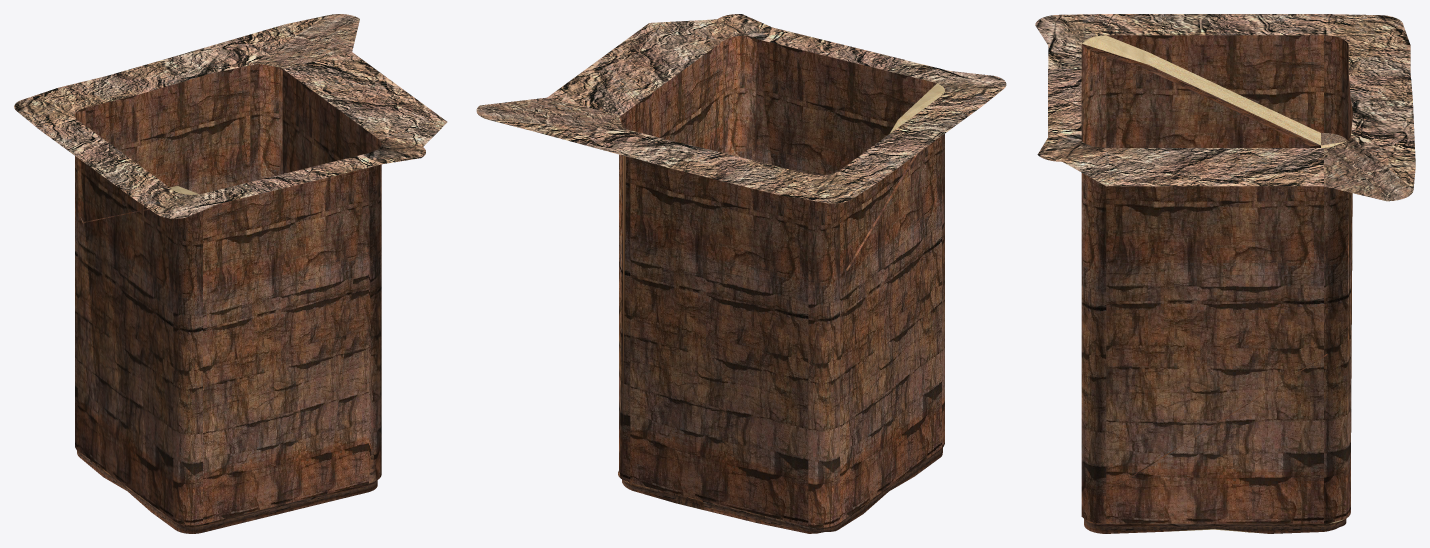
The model's file is view.obj.
The picture shows the model from 3 angles, left to right: view 1: azimuth 30°, elevation 25°; view 2: azimuth 150°, elevation 25°; view 3: azimuth 270°, elevation 25°; orthographic projection. The views are drawn at different scales.
Size of the model in its own units: 2040 by 2015 by 1697.
